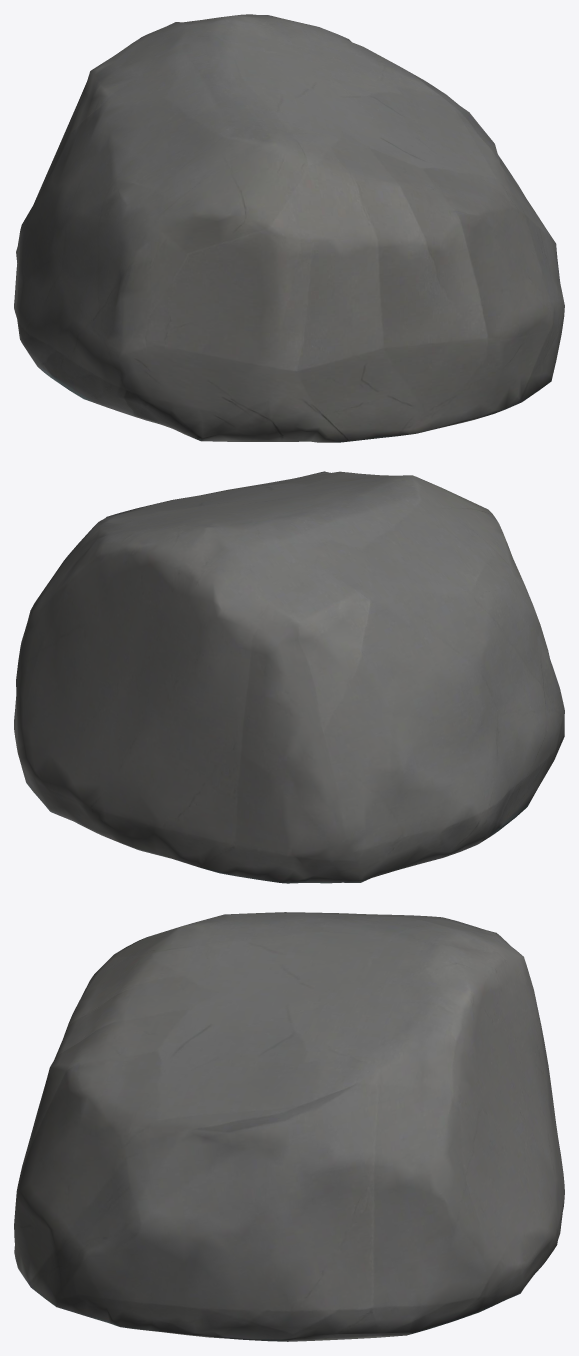
Rendered from Geometric_Boulder_0405084150_texture.fbx.
3 views of the same model, one above another, from view 1: azimuth 30°, elevation 25°; view 2: azimuth 150°, elevation 25°; view 3: azimuth 270°, elevation 25° (orthographic). The views are drawn at different scales.
Parts seen in each view (by area): view 1: Mesh1; view 2: Mesh1; view 3: Mesh1.
Part boxes in pixels (x1,y1,x2,y2): Mesh1: (14, 14, 564, 442); Mesh1: (14, 471, 564, 883); Mesh1: (14, 912, 564, 1341).
Bounding box in the file's own units: 200 × 117 × 198.
1 material, 1 textured.
